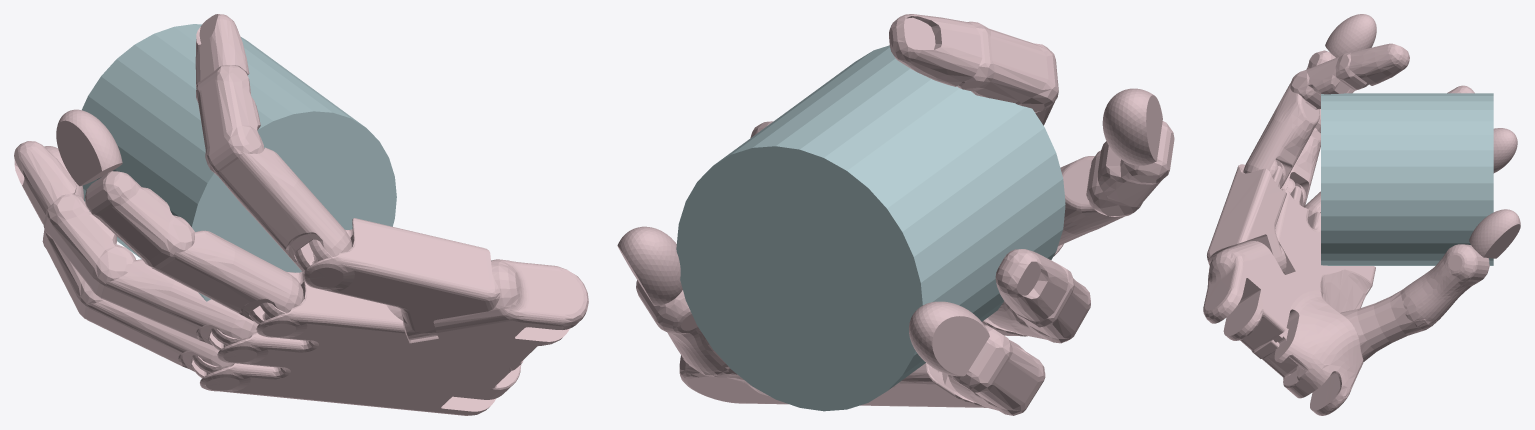
The model's file is grasp_4.glb.
The picture shows the model from 3 angles, left to right: view 1: azimuth 30°, elevation 25°; view 2: azimuth 150°, elevation 25°; view 3: azimuth 270°, elevation 25°; orthographic projection. The views are drawn at different scales.
Parts seen in each view (by area): view 1: world; view 2: world; view 3: world.
Boxes of the visible parts, <box> form: world: <box>14,14,588,415</box>; world: <box>617,14,1174,415</box>; world: <box>1203,14,1520,415</box>.
Bounding box in the file's own units: 0.1659 × 0.1518 × 0.1471.
